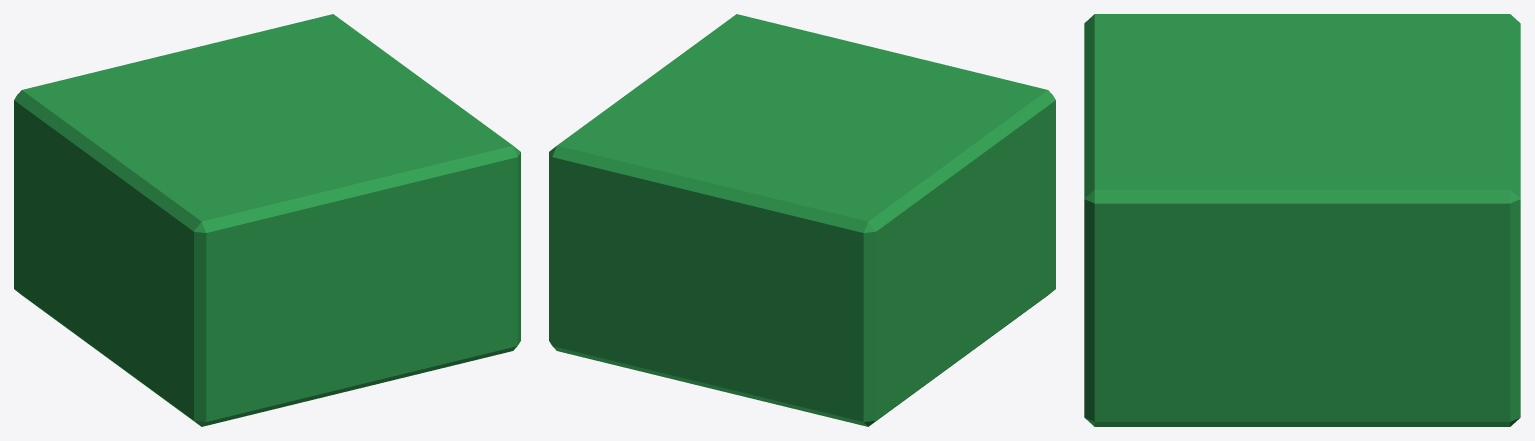
Rendered from raw_material_green.glb.
3 views of the same model, side by side, from view 1: azimuth 30°, elevation 25°; view 2: azimuth 150°, elevation 25°; view 3: azimuth 270°, elevation 25° (orthographic). The views are drawn at different scales.
Visible parts, largest first — view 1: Item; view 2: Item; view 3: Item.
Boxes of the visible parts, x1,y1,x2,y2 form: Item: (14,14,520,426); Item: (549,14,1055,426); Item: (1084,14,1520,426).
Size of the model in its own units: 0.25 by 0.15 by 0.25.
